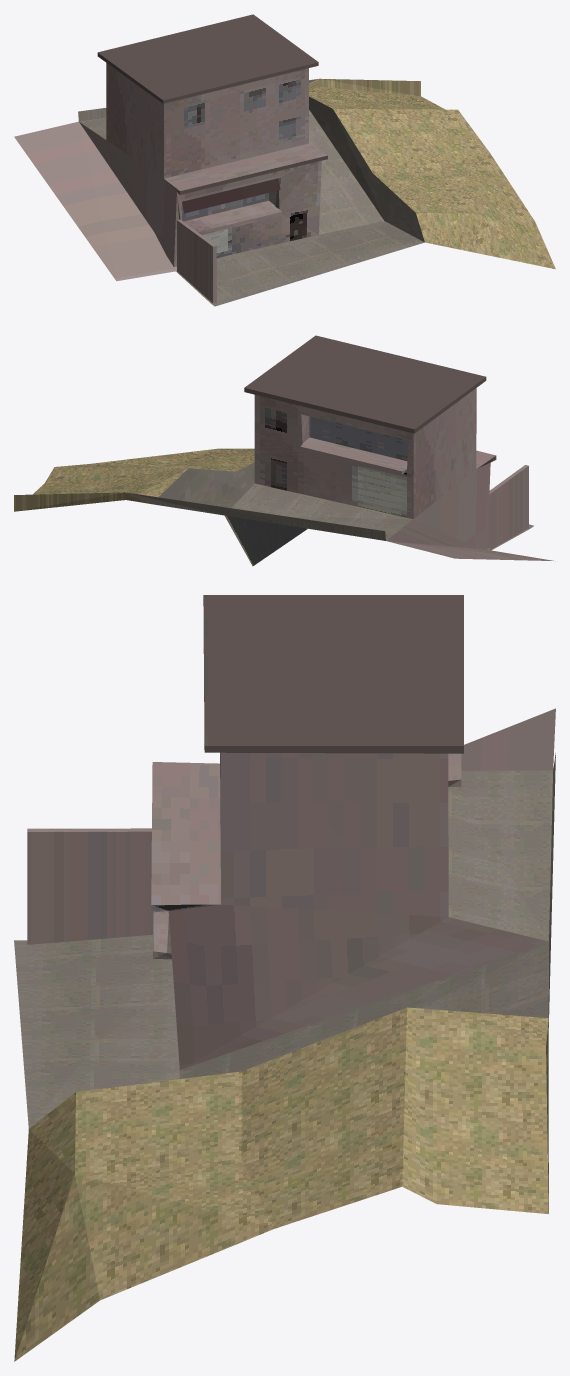
The model's file is lodsplitapts.obj.
The picture shows the model from 3 angles, top to bottom: view 1: azimuth 30°, elevation 25°; view 2: azimuth 150°, elevation 25°; view 3: azimuth 270°, elevation 25°; orthographic projection. The views are drawn at different scales.
Parts seen in each view (by area): view 1: LODsplitapts; view 2: LODsplitapts; view 3: LODsplitapts.
Part boxes in pixels (x1,y1,x2,y2): LODsplitapts: (14,14,555,306); LODsplitapts: (14,335,555,566); LODsplitapts: (14,595,555,1361).
Bounding box in the file's own units: 35.24 × 18.08 × 20.52.
Materials: 4 (4 with a texture image).
